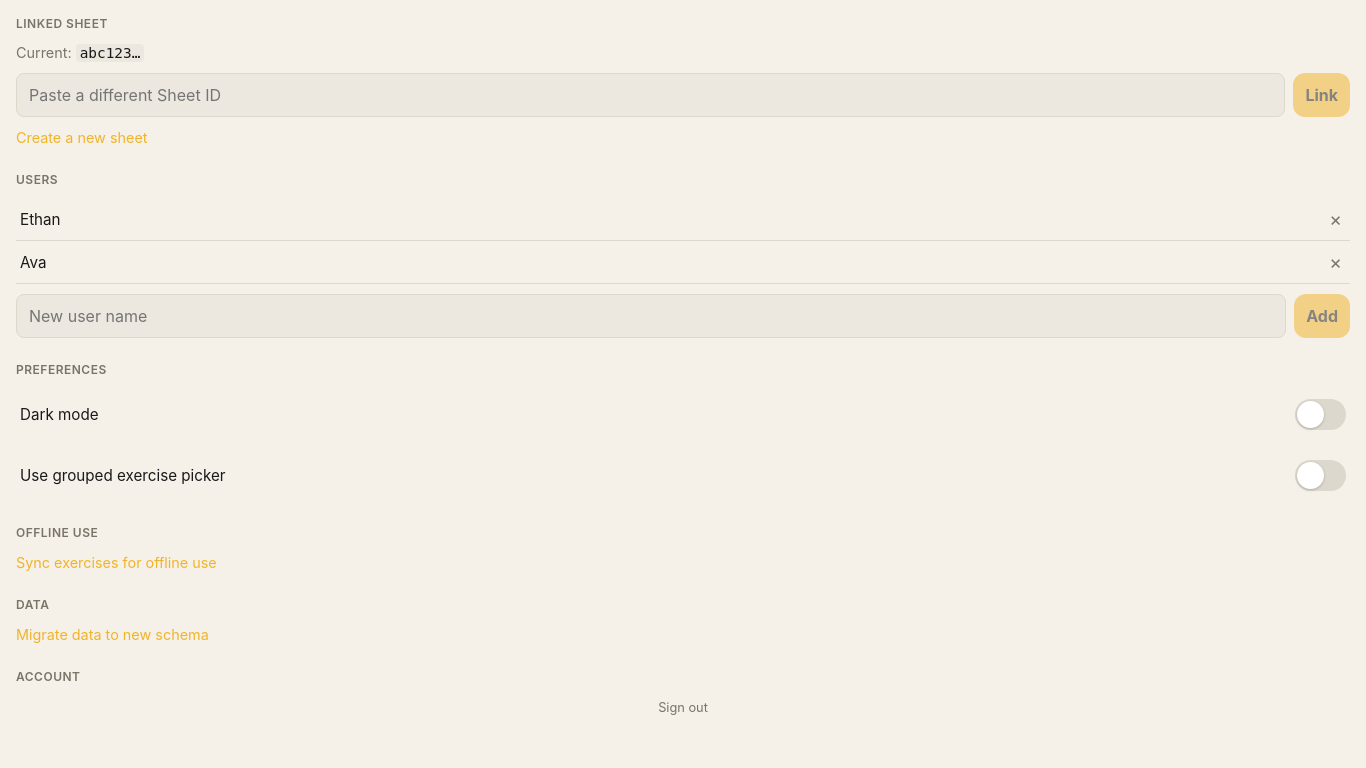
Scenario: SettingsView › opens the ConfirmDialog when "Create a new sheet" is clicked
Click the button "Create a new sheet".
click(82, 137)  # box [16, 127, 1350, 148]
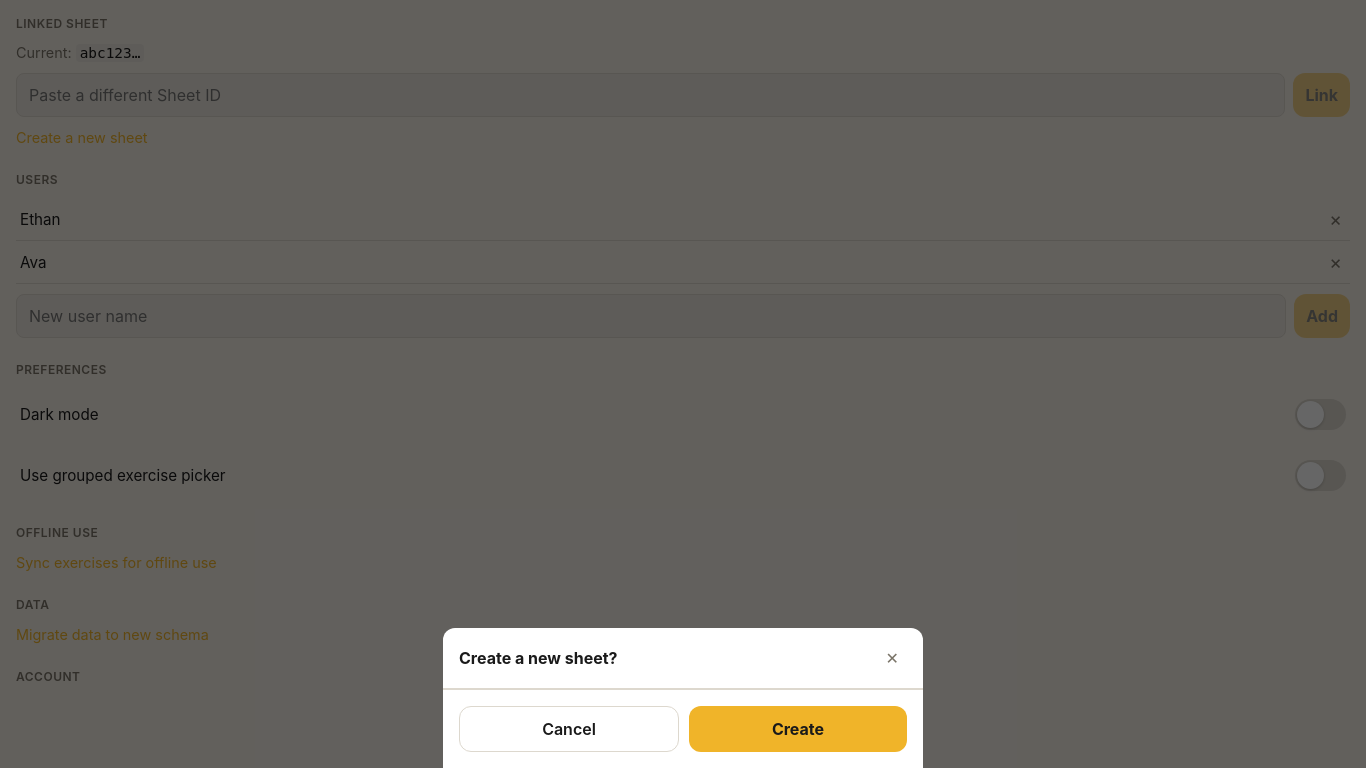
Check: the text "Create a new sheet?" is shown, box [459, 647, 618, 669]
